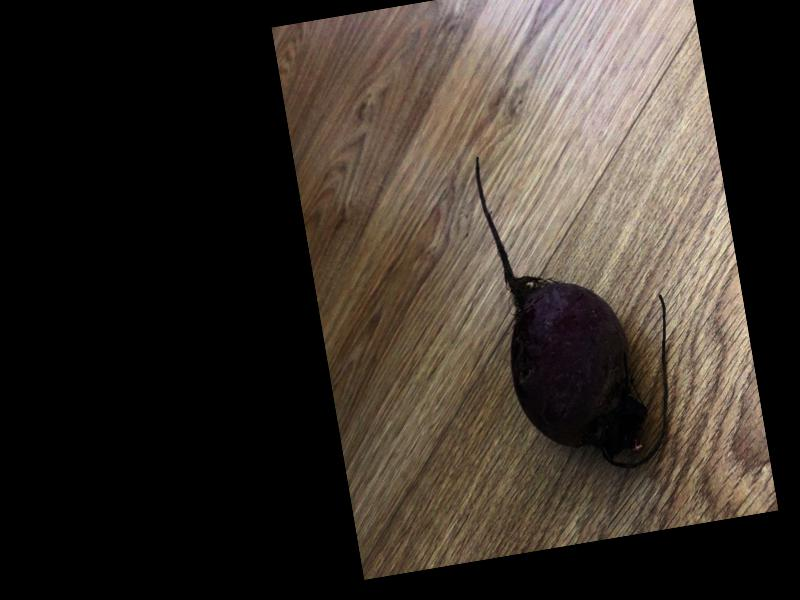Beet: (472, 130, 690, 485)
